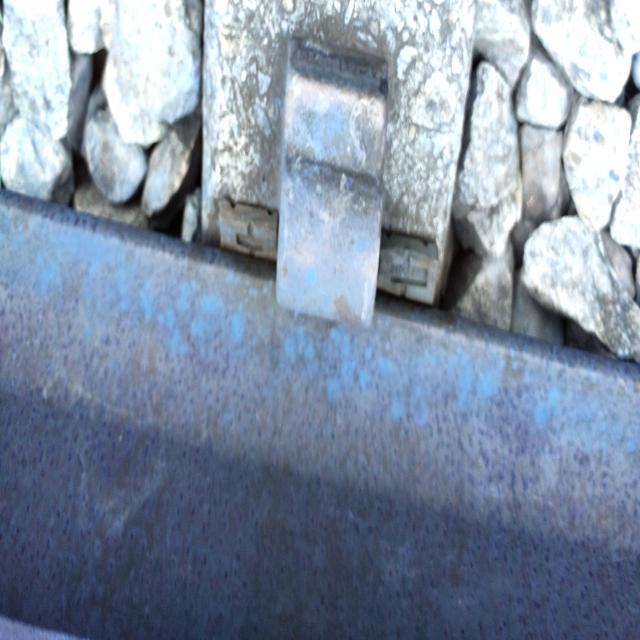Missing Fastener: (242, 2, 420, 387)
